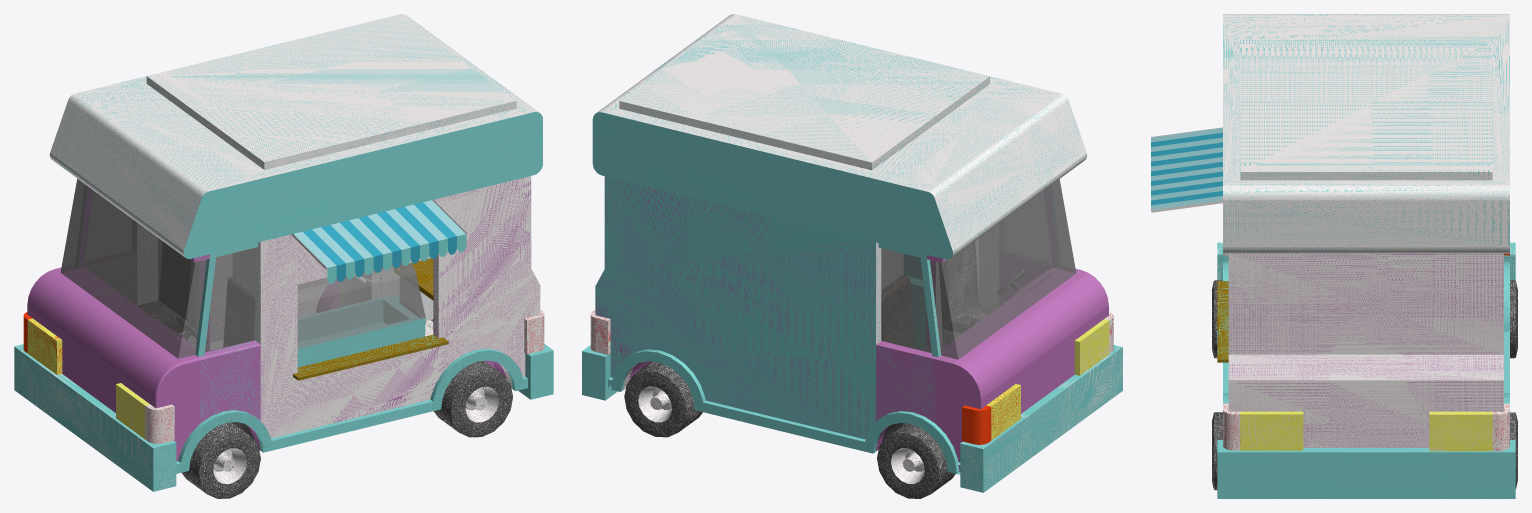
Rendered from Van_v7.fbx.
The picture shows the model from 3 angles, left to right: view 1: azimuth 30°, elevation 25°; view 2: azimuth 150°, elevation 25°; view 3: azimuth 270°, elevation 25°; orthographic projection. The views are drawn at different scales.
Parts seen in each view (by area): view 1: van_ase, driver_cab, front, desk_glass, sun_cover, desk, G_3D_Object3_1, G_3D_Object3_2, seat_rght, front_left, left, outer_shelf (+9 smaller); view 2: van_ase, driver_cab, front, G_3D_Object3_3, G_3D_Object3_4, seat_left, front_right, right, seat_rght, Gruppe_5_3, Gruppe_5_4, Group1 (+4 smaller); view 3: van_ase, back, sun_cover, back_right, back_left, outer_shelf, G_3D_Object3_3, G_3D_Object3_1, front, G_3D_Object3_2, Gruppe_5_3.
Boxes of the visible parts, x1,y1,x2,y2 form: van_ase: (49,14,542,438); driver_cab: (27,179,260,461); front: (14,344,176,491); desk_glass: (297,261,425,348); sun_cover: (291,200,467,269); desk: (297,295,425,367); G_3D_Object3_1: (433,361,512,437); G_3D_Object3_2: (182,422,260,498); seat_rght: (138,242,198,347); front_left: (116,383,174,443); left: (176,376,527,473); outer_shelf: (293,334,448,380); van_ase: (592,14,1087,439); driver_cab: (876,179,1108,471); front: (960,345,1122,492); G_3D_Object3_3: (877,423,955,498); G_3D_Object3_4: (624,361,702,437); seat_left: (939,241,999,347); front_right: (962,384,1020,444); right: (608,377,960,474); seat_rght: (881,275,931,352); Gruppe_5_3: (864,411,959,473); Gruppe_5_4: (611,349,705,412); Group1: (851,85,978,350); van_ase: (1223,14,1509,447); back: (1217,440,1515,498); sun_cover: (1151,127,1222,212); back_right: (1429,403,1509,451); back_left: (1223,403,1303,450); outer_shelf: (1217,281,1228,362); G_3D_Object3_3: (1510,280,1517,358); G_3D_Object3_1: (1212,412,1222,490); front: (1217,242,1515,280); G_3D_Object3_2: (1212,280,1222,358); Gruppe_5_3: (1504,261,1509,331).
Bounding box in the file's own units: 432 × 326 × 320.
